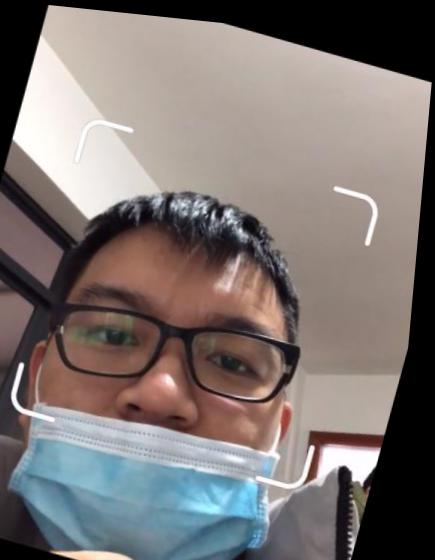WRONG: (7, 238, 326, 560)
